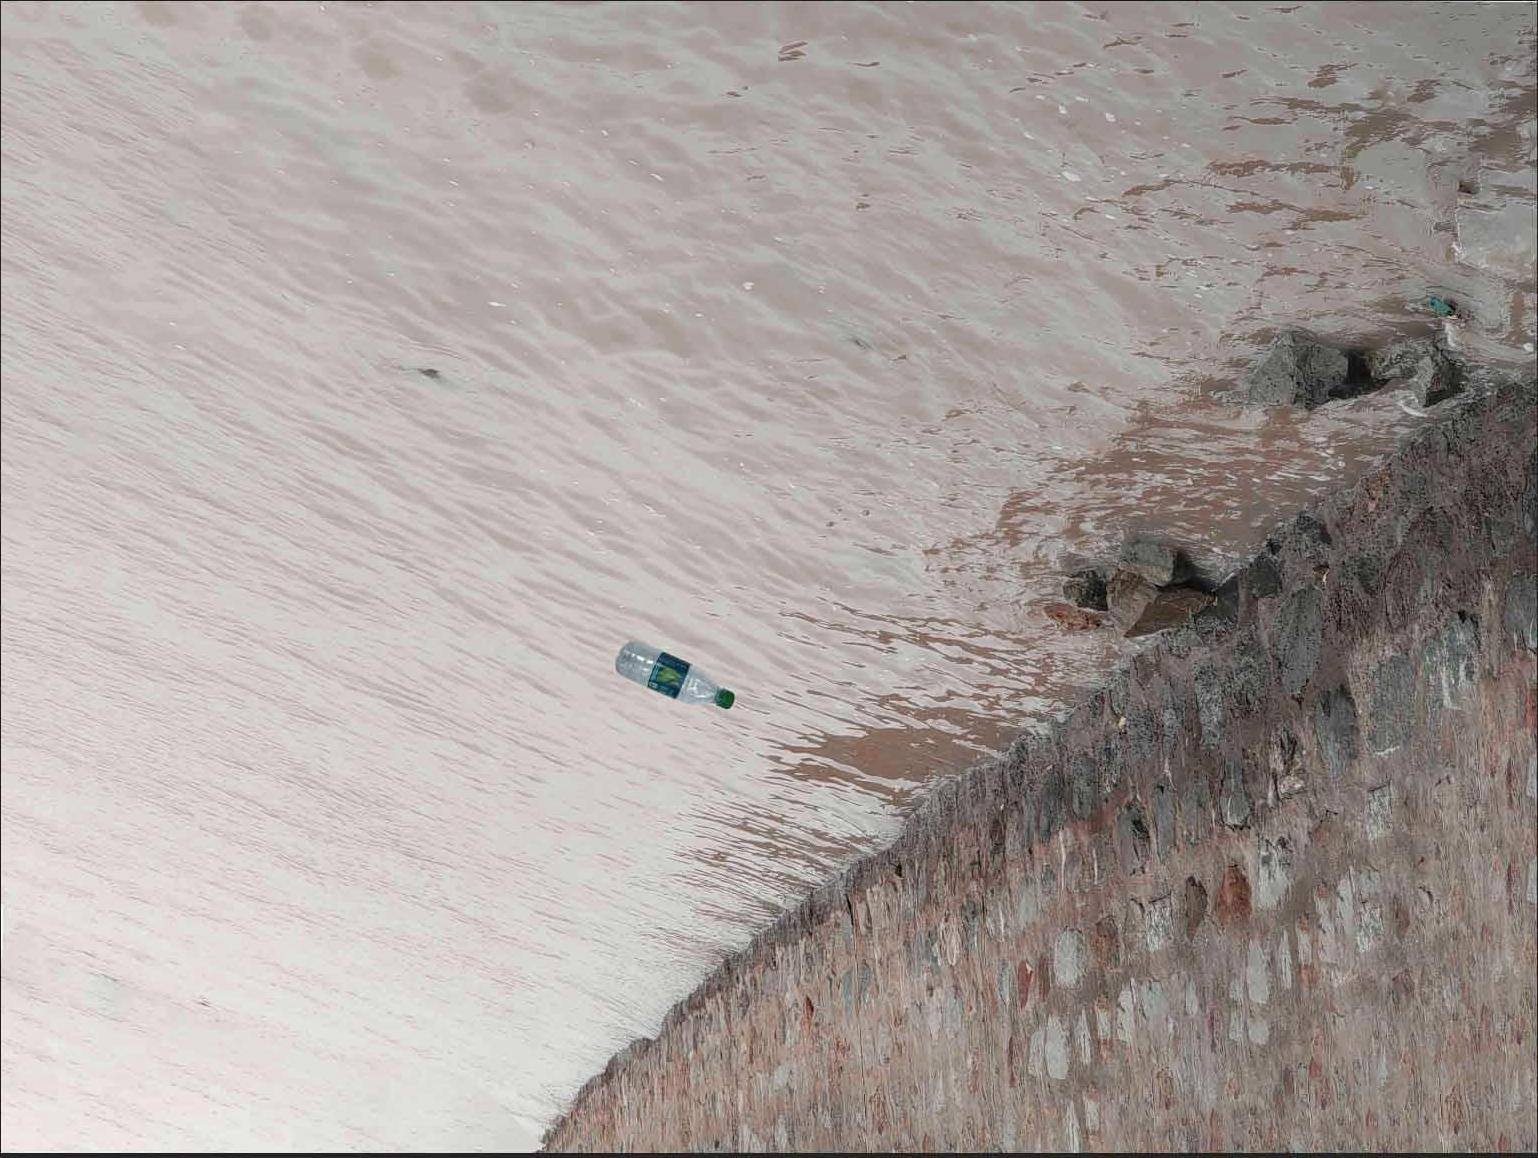Plastic: (615, 637, 737, 713)
